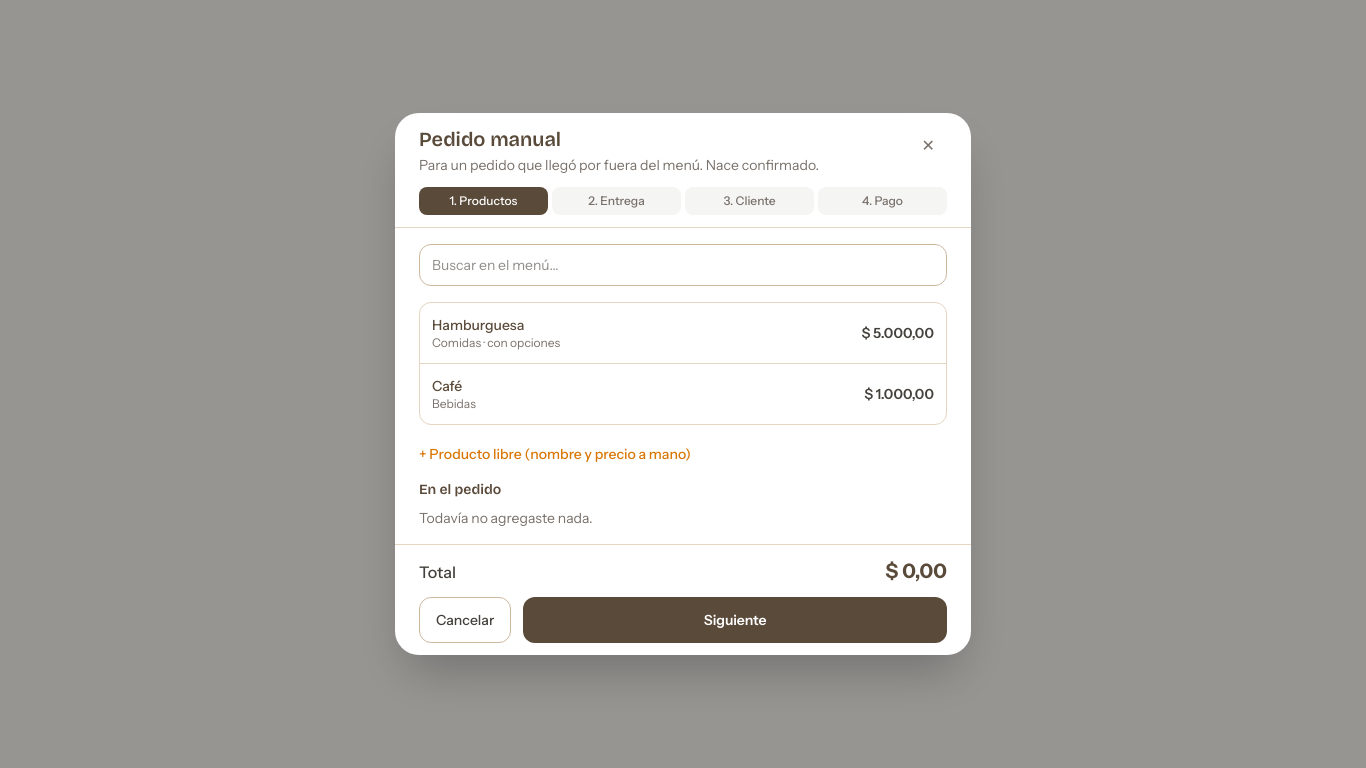
pedido manual — productos (ADMIN-PEDIDOS-40, 42 y 47) › no deja avanzar sin productos
Click the button "Siguiente" at (735, 620), box [523, 597, 947, 643]
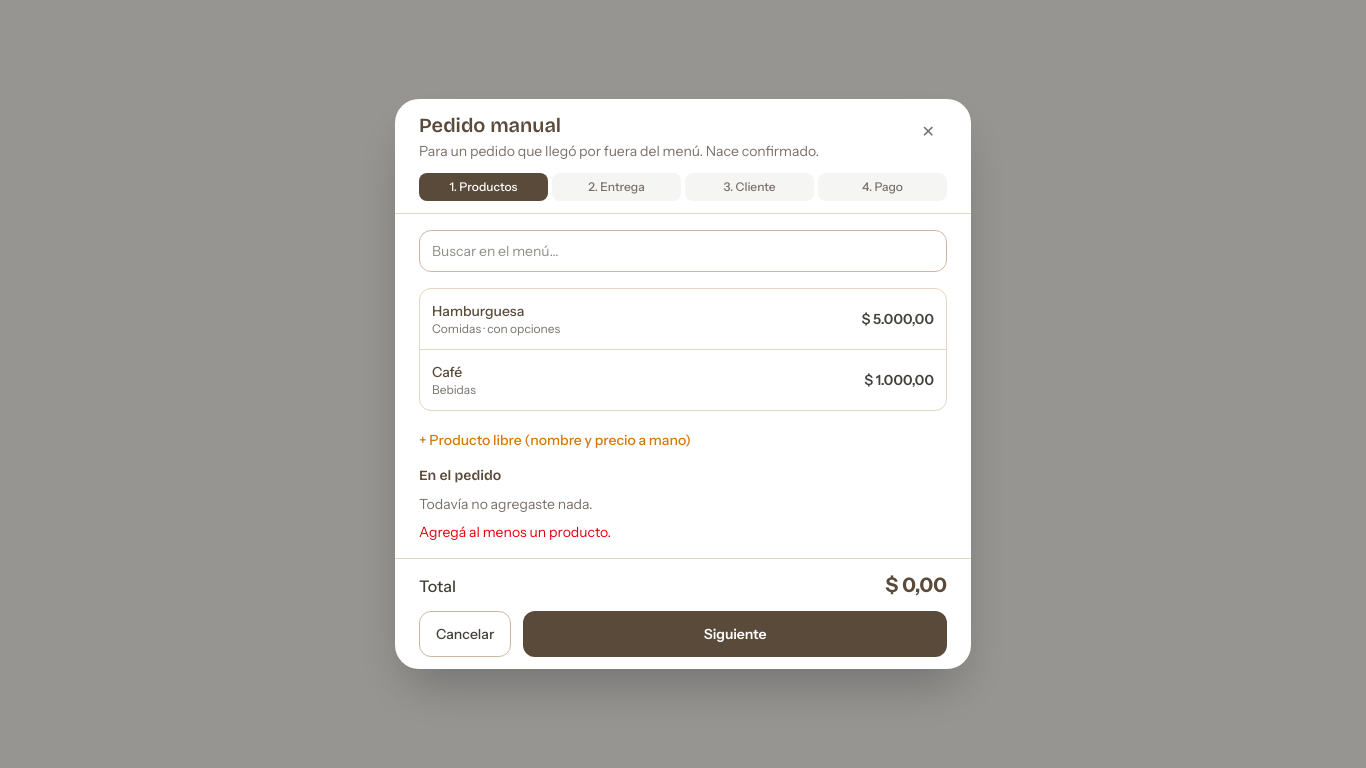
Expected: the button "Siguiente" is shown, [523, 611, 947, 657]
Expected: the text "Agregá al menos un producto." is shown, [419, 523, 611, 541]
